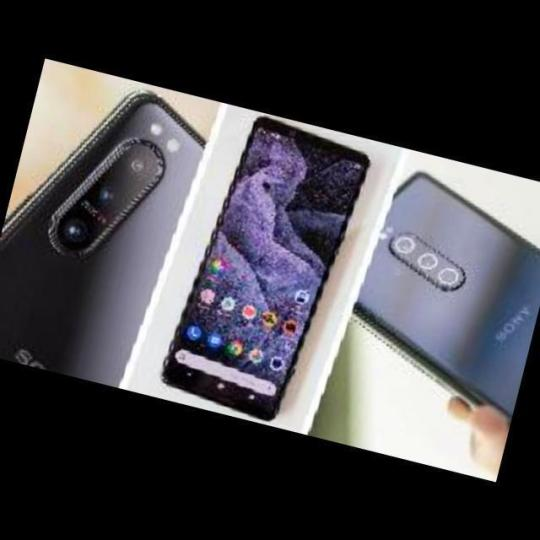phone: (158, 117, 371, 427), (4, 89, 214, 403), (352, 170, 540, 428)
